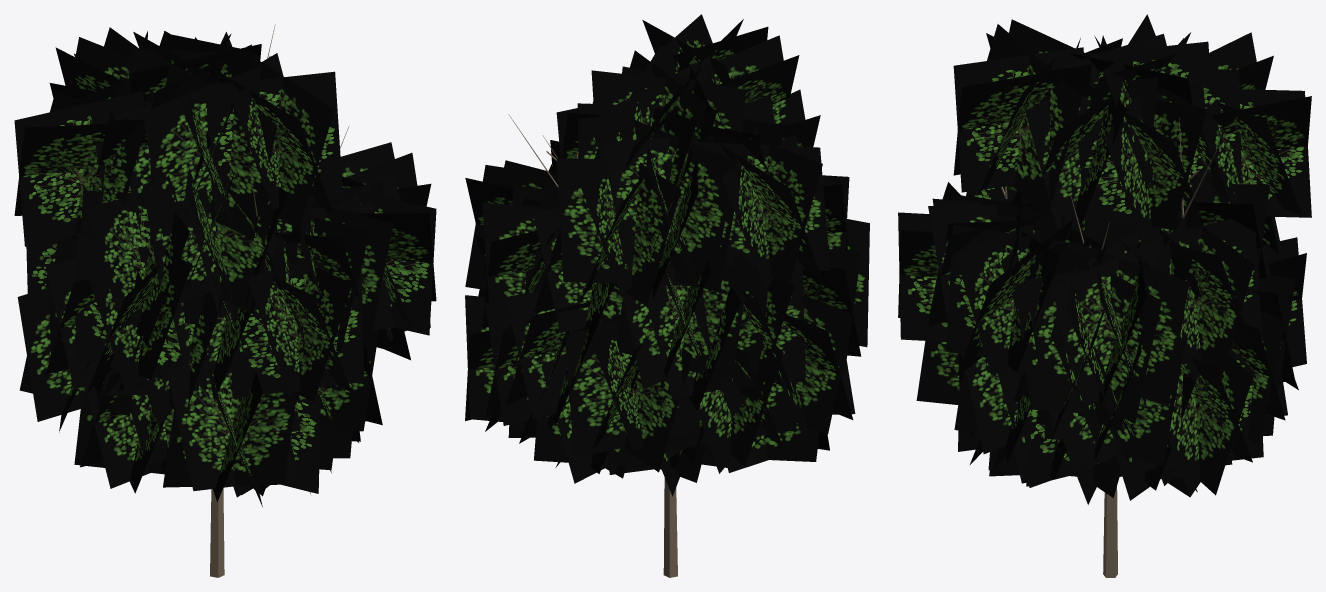
File: Beech_1_LOD1.glb
The picture shows the model from 3 angles, left to right: view 1: azimuth 30°, elevation 25°; view 2: azimuth 150°, elevation 25°; view 3: azimuth 270°, elevation 25°; orthographic projection. The views are drawn at different scales.
Visible parts, largest first — view 1: Beech_1_LOD1; view 2: Beech_1_LOD1; view 3: Beech_1_LOD1.
Part boxes in pixels (box(x1,y1,x2,y2)): Beech_1_LOD1: box(14, 24, 436, 577); Beech_1_LOD1: box(465, 14, 869, 577); Beech_1_LOD1: box(898, 14, 1311, 577).
Bounding box in the file's own units: 15.59 × 20.86 × 14.74.
2 materials, 1 textured.
